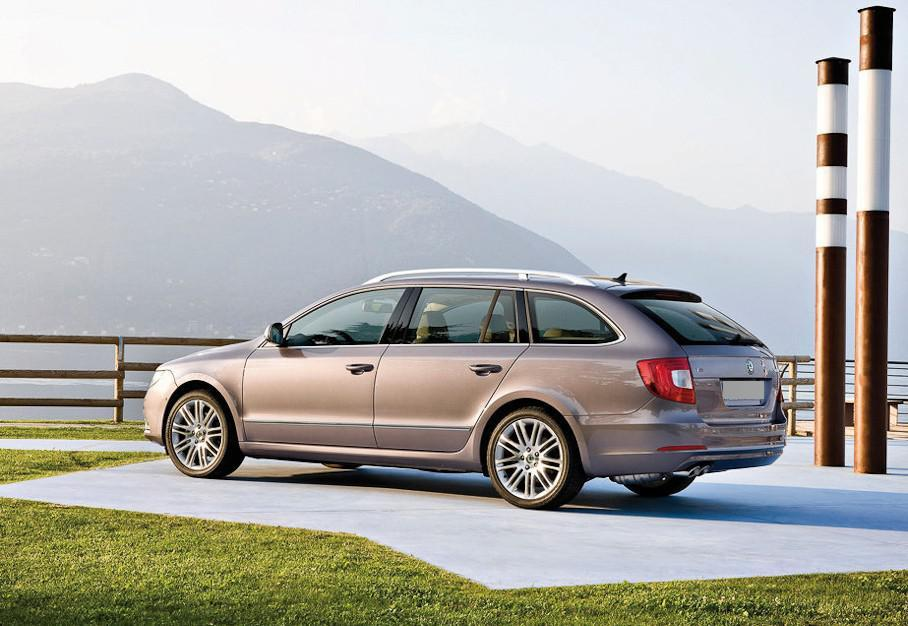Wagon: (143, 268, 787, 510)
